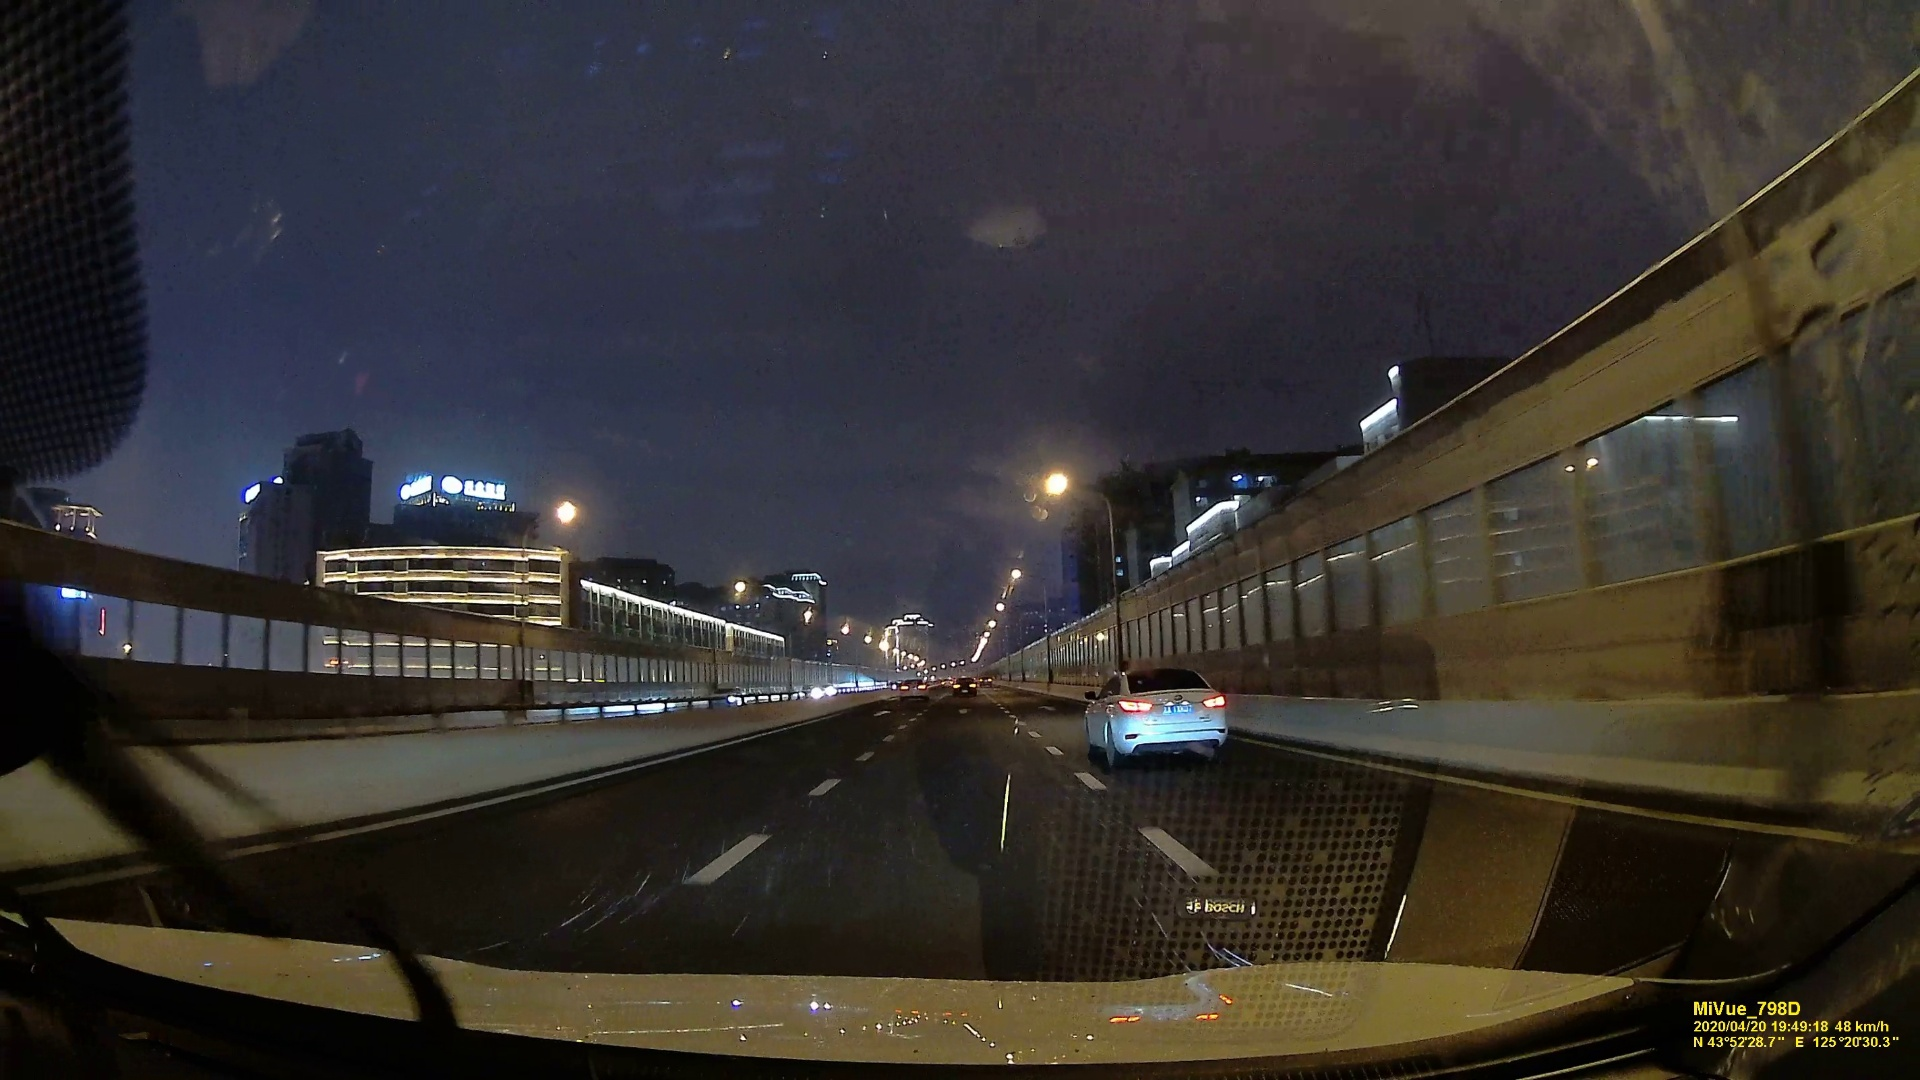vehicle: (1081, 662, 1234, 767), (899, 676, 928, 700), (952, 675, 978, 695)
